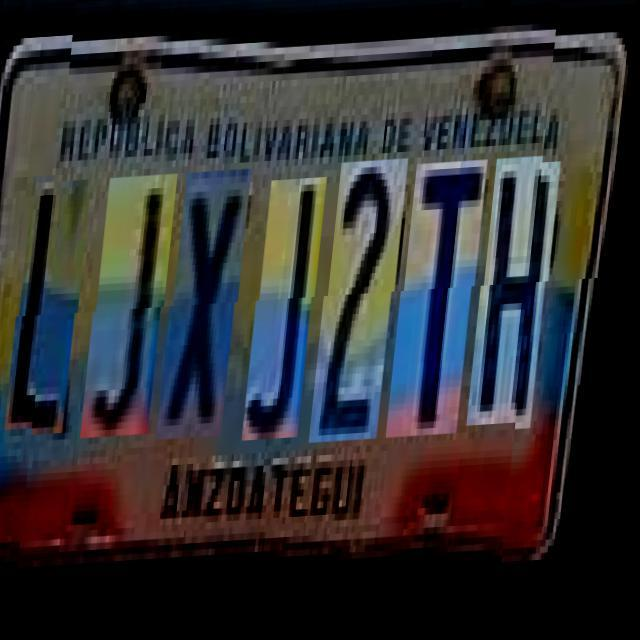2: (322, 164, 412, 448)
H: (480, 162, 566, 432)
J: (92, 176, 182, 440), (254, 182, 332, 444)
L: (16, 180, 96, 438)
T: (399, 166, 492, 444)
X: (170, 172, 256, 442)
